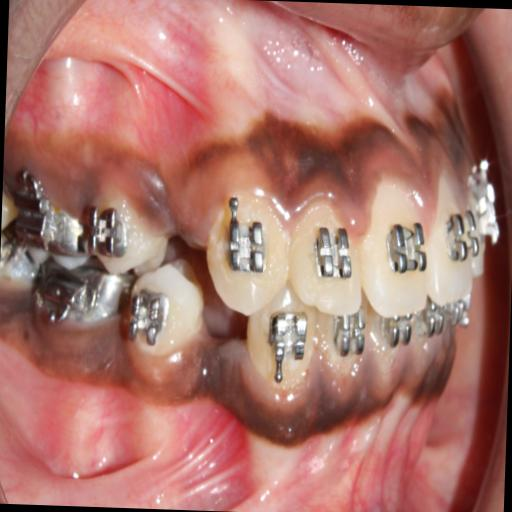correct_brace: (288, 202, 362, 312), (222, 196, 275, 272), (308, 221, 354, 284), (384, 214, 428, 278)
